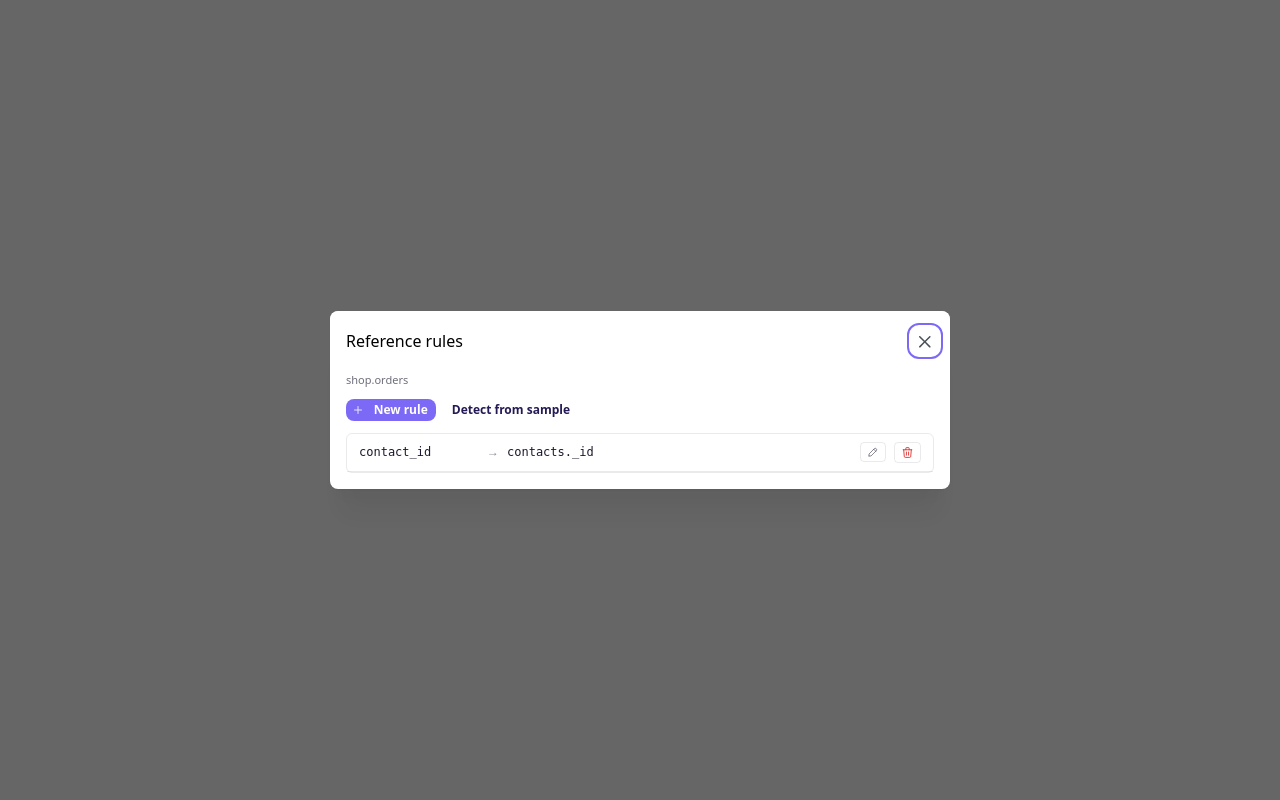
it: ReferenceRulesEditor — delete confirm › does not delete on the first click — surfaces an inline confirm row
Step 1. Click the button named "Delete rule" → coordinates (908, 452), box [894, 442, 921, 462]
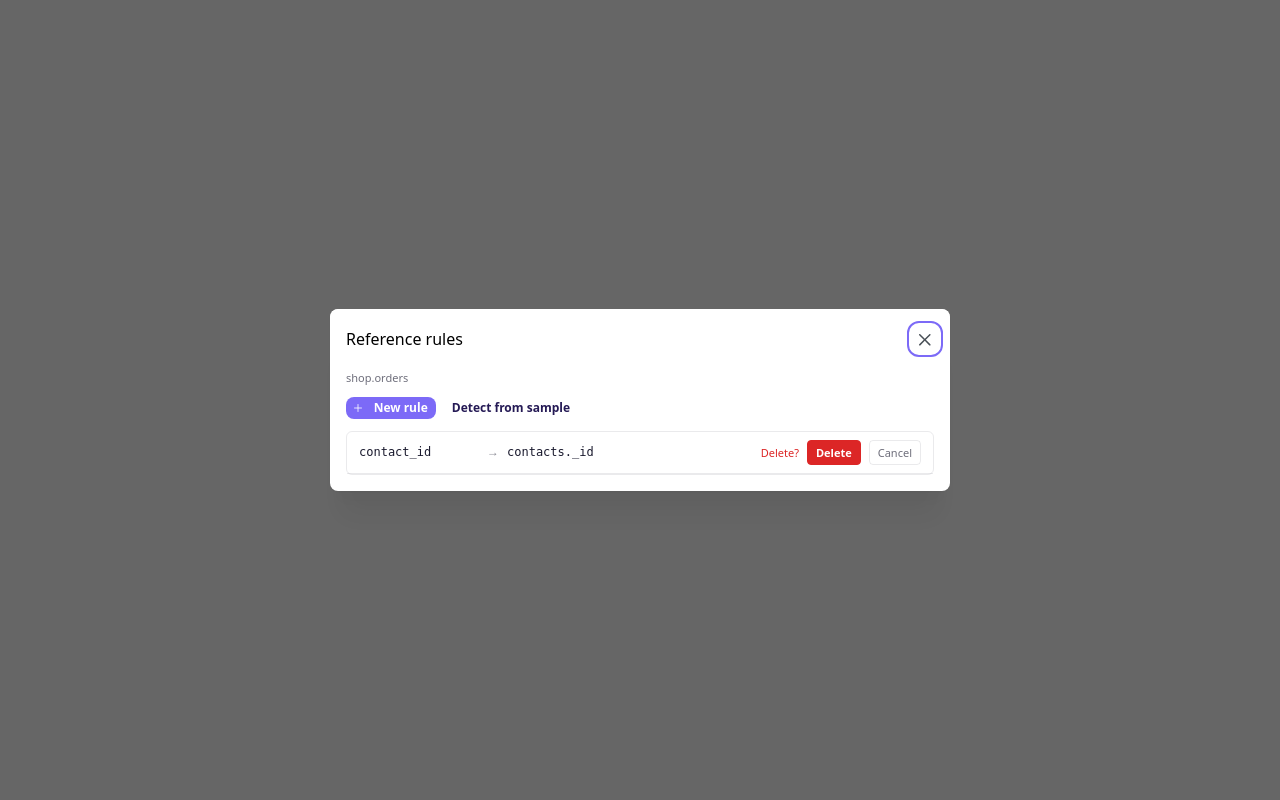
Check: the button with aria-label "Confirm delete" is shown, box [807, 440, 861, 464]
Check: the button with aria-label "Cancel delete" is shown, box [869, 440, 921, 464]
